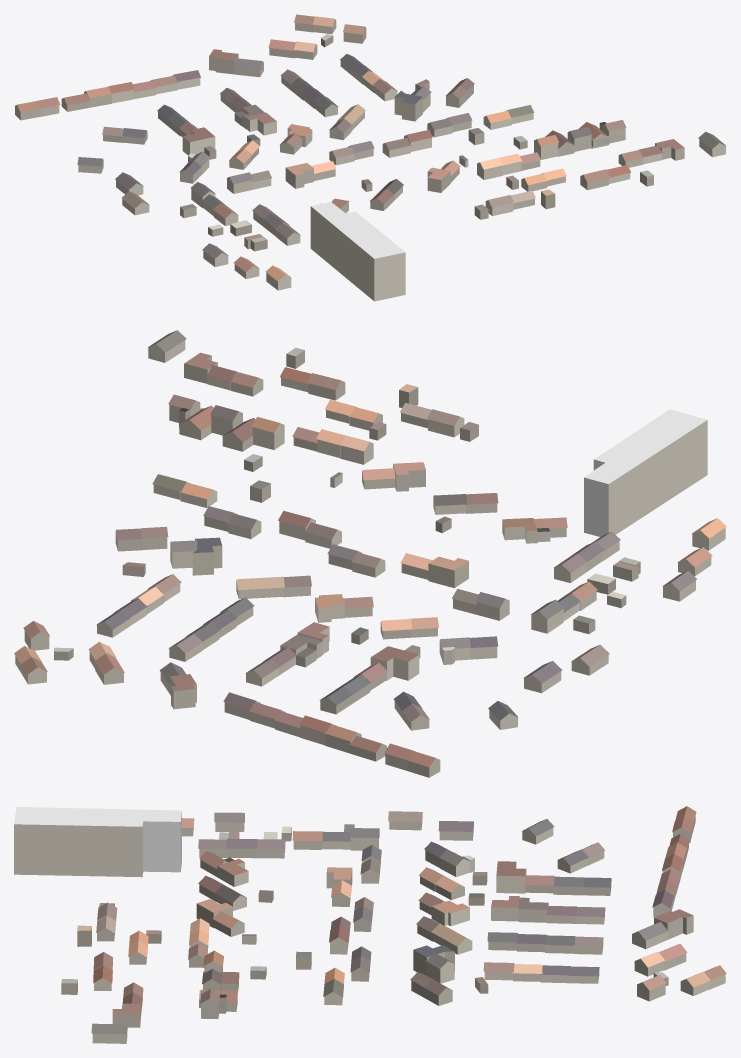
The picture shows the model from 3 angles, top to bottom: view 1: azimuth 30°, elevation 25°; view 2: azimuth 150°, elevation 25°; view 3: azimuth 270°, elevation 25°; orthographic projection. The views are drawn at different scales.
Parts seen in each view (by area): view 1: tuile; view 2: tuile; view 3: tuile.
Boxes of the visible parts, left/top/right/bottom form: tuile: left=15, top=14, right=725, bottom=301; tuile: left=14, top=330, right=726, bottom=777; tuile: left=14, top=806, right=726, bottom=1043.
Bounding box in the file's own units: 249 × 29.27 × 278.
